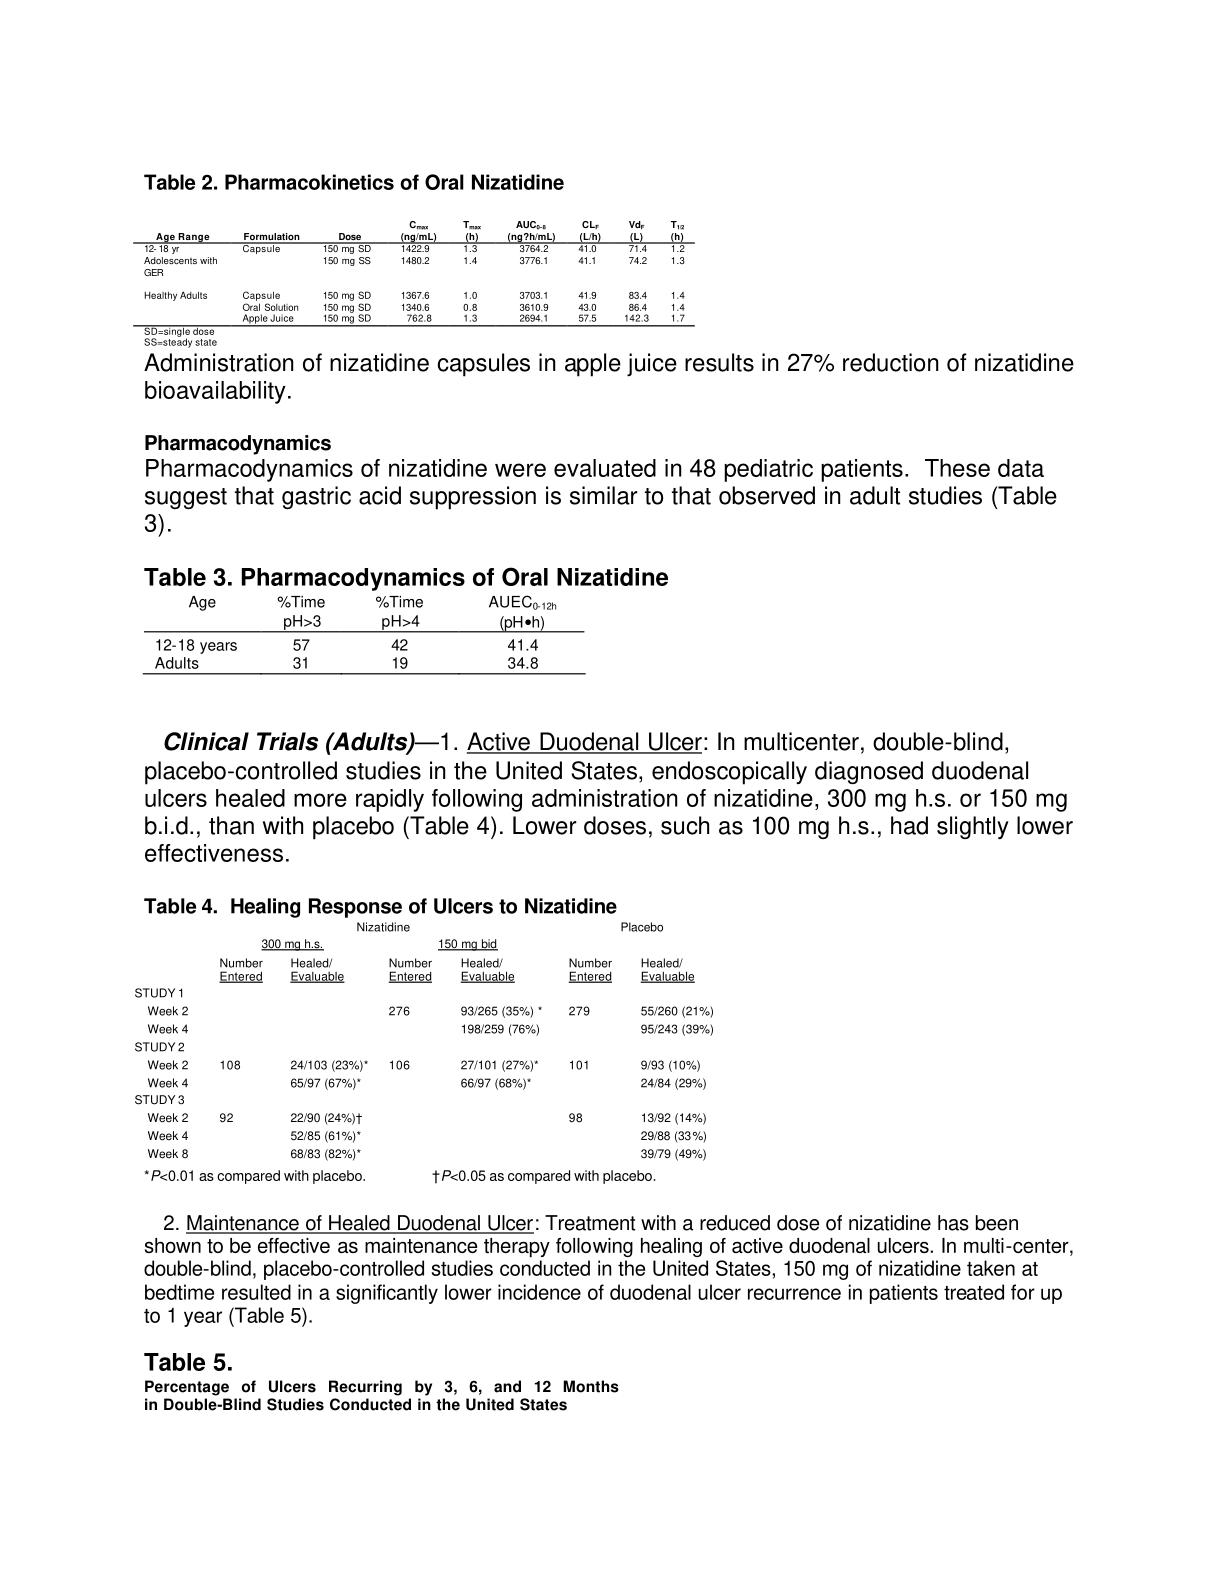nolines: (129, 919, 721, 1164)
partial_lined: (132, 216, 697, 328), (141, 593, 588, 678)
